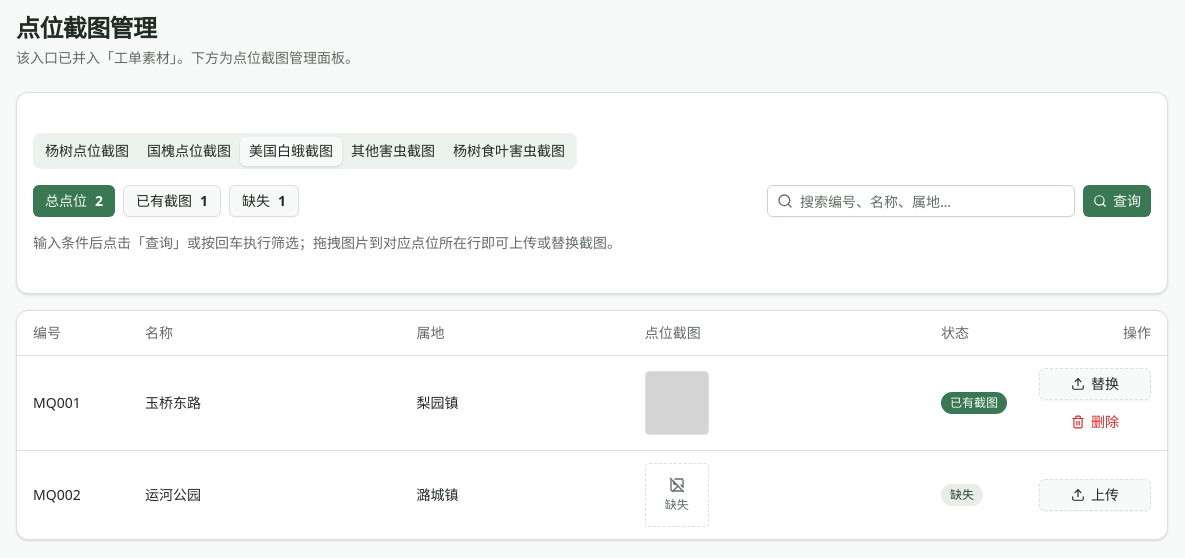
PointScreenshotView › 默认展示美国白蛾统计，并可切换害虫类型
The image size is (1185, 558).
Check: the button with test id "point-screenshot-total" shows "2", box [33,185,115,217]
Check: the button with test id "point-screenshot-existing" shows "1", box [123,185,221,217]
Click the tab with test id "point-screenshot-tab-春尺蠖" at (87, 151), box [36,136,138,166]
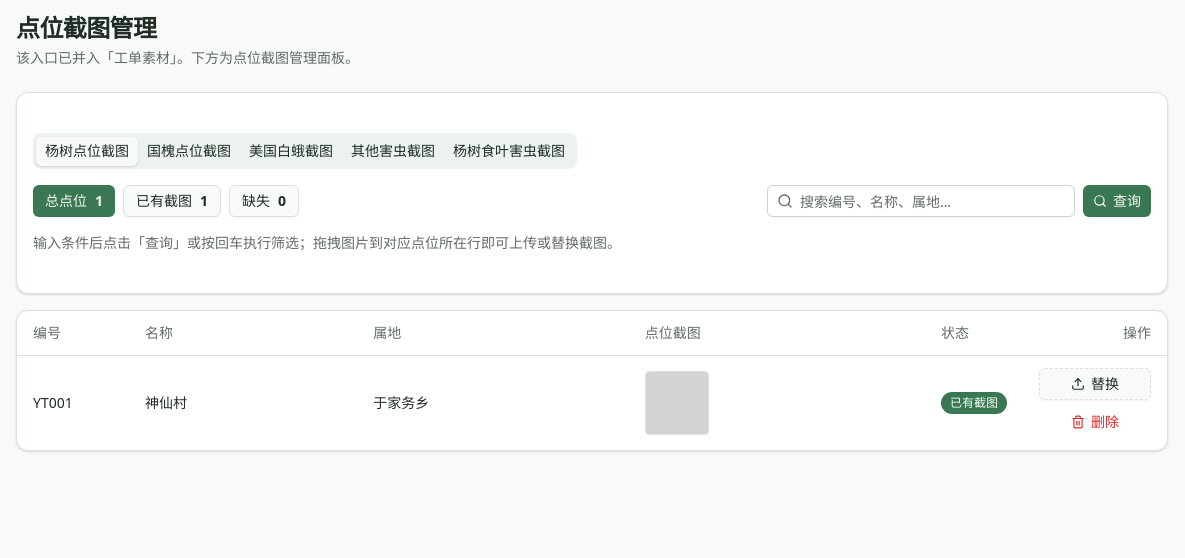
Check: the button with test id "point-screenshot-total" shows "1", box [33,185,115,217]
Check: the text "神仙村" is shown, box [129,356,357,450]
Check: the text "运河公园" is gone
